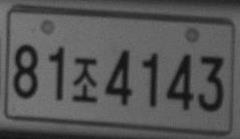1: (44, 46, 70, 100), (138, 53, 164, 107)
3: (197, 56, 225, 112)
4: (104, 49, 133, 105), (166, 54, 194, 110)
8: (12, 43, 39, 98)
조: (72, 57, 97, 102)
